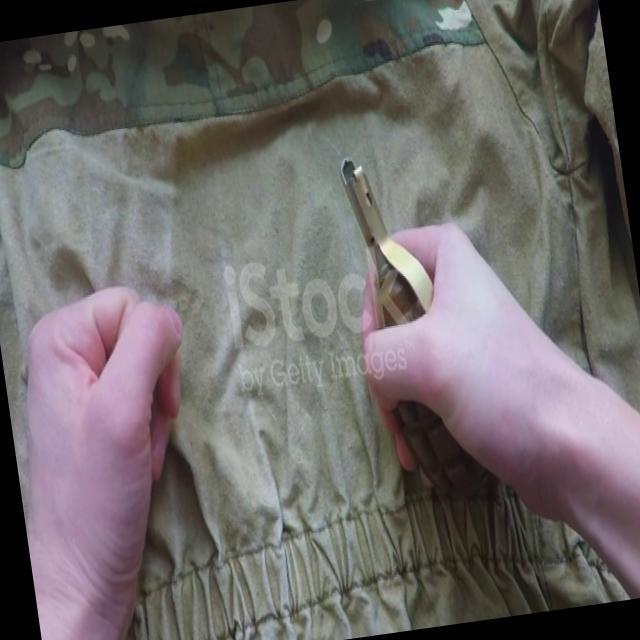grenade: (341, 142, 494, 510)
